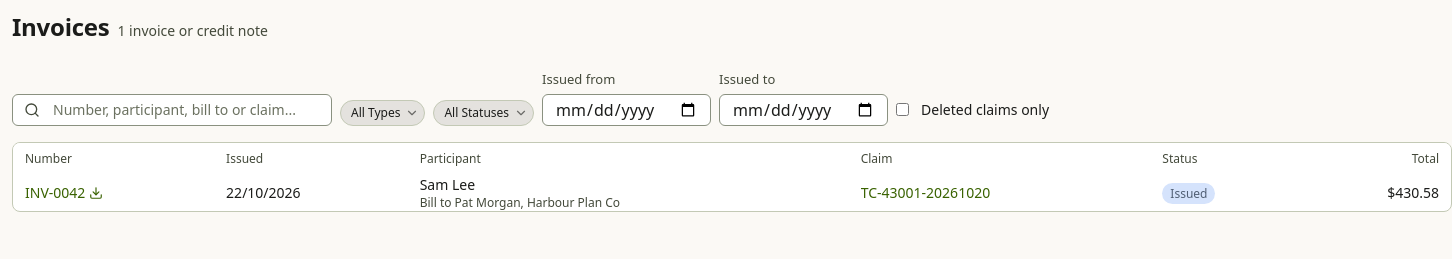
Test: InvoicesPage: the number downloads the PDF › shows the failure under that row, and announces it once
Click the button with aria-label "Download INV-0042 PDF" at [64, 192], box [25,182,103,202]
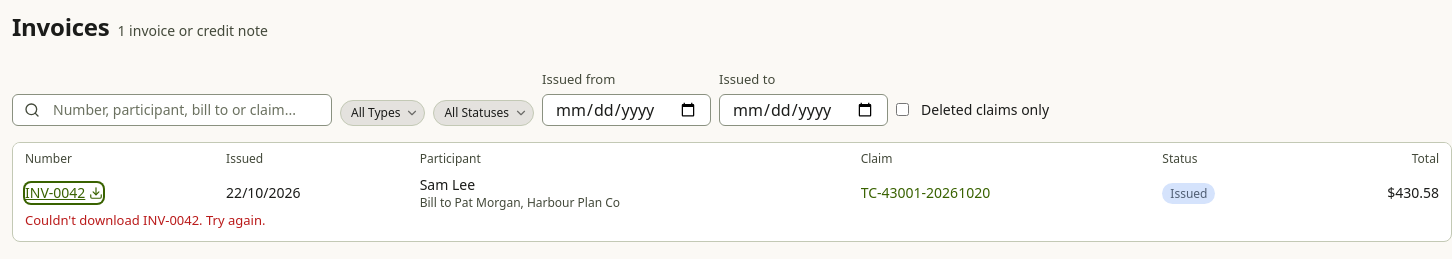
Result: the text "Couldn't download INV-0042. Try again." is shown 2 times
